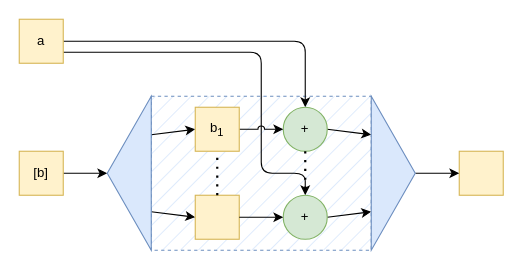
Some shapes in this 523 by 270 pixel diagram are drawn without their labels. Each missing label, with the centre of its shape:
"[g]" goes at [480,172].
"b n" goes at [216,216].
"map" goes at [128,172].
